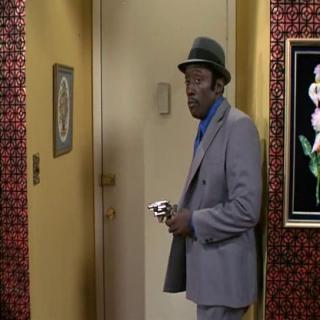gun: (148, 192, 182, 237)
